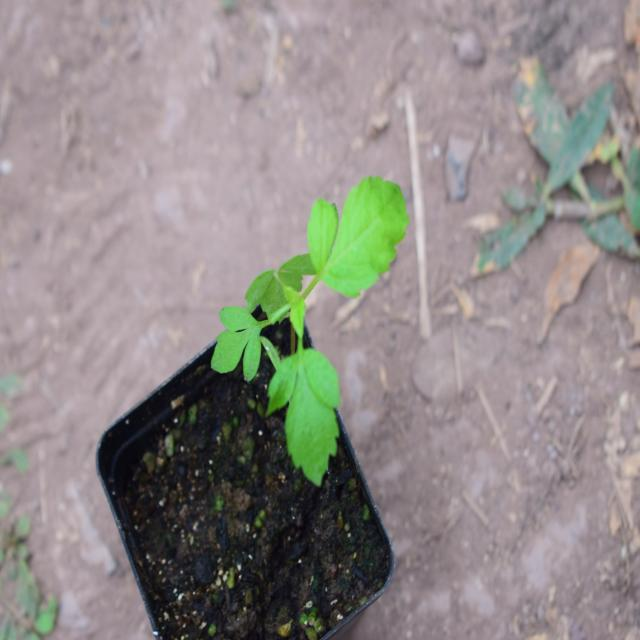Bidens pilosa: (195, 166, 414, 484)
